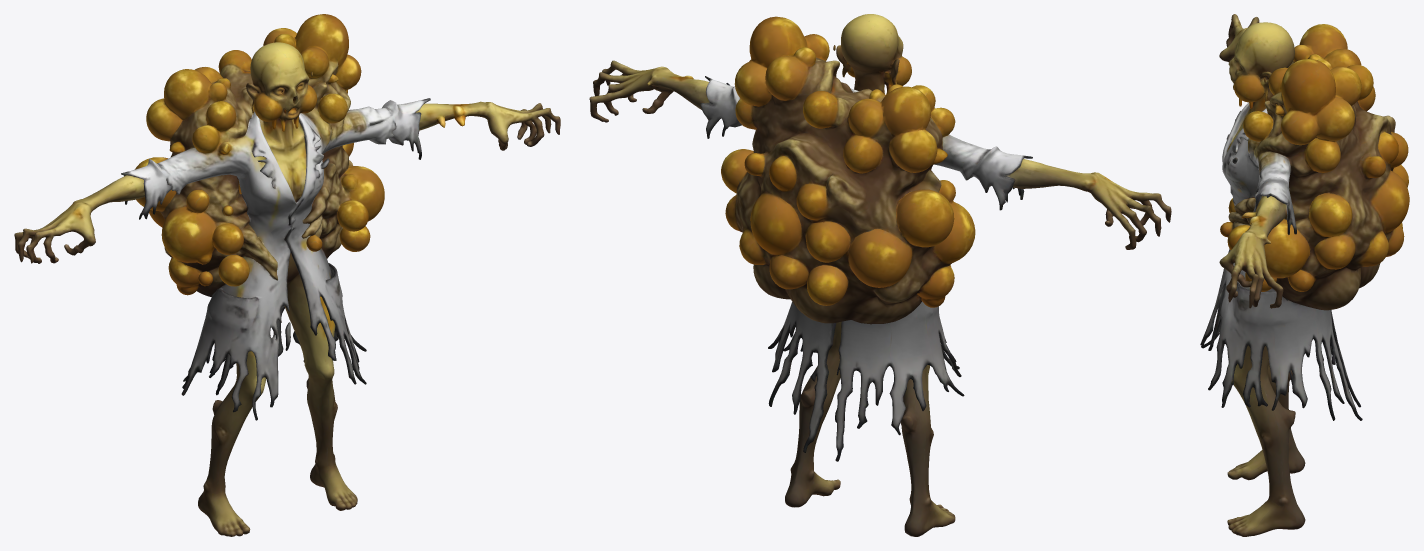
Rendered from kovan_ana.glb.
The picture shows the model from 3 angles, left to right: view 1: azimuth 30°, elevation 25°; view 2: azimuth 150°, elevation 25°; view 3: azimuth 270°, elevation 25°; orthographic projection. The views are drawn at different scales.
Visible parts, largest first — view 1: world; view 2: world; view 3: world.
Boxes of the visible parts, x1,y1,x2,y2 form: world: (14, 14, 560, 536); world: (589, 14, 1171, 536); world: (1200, 14, 1409, 536).
Size of the model in its own units: 1 by 0.8371 by 0.3315.
1 material, 1 textured.
